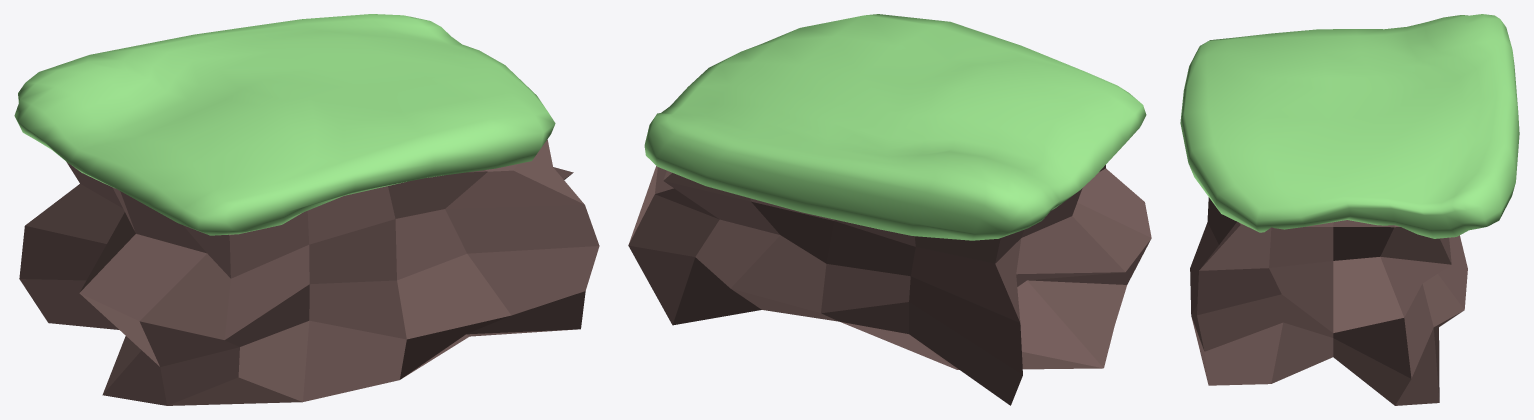
File: Cave Island - Short.fbx
The picture shows the model from 3 angles, left to right: view 1: azimuth 30°, elevation 25°; view 2: azimuth 150°, elevation 25°; view 3: azimuth 270°, elevation 25°; orthographic projection. The views are drawn at different scales.
Parts seen in each view (by area): view 1: Platform Small Flat rock, Platform Small Flat grass; view 2: Platform Small Flat grass, Platform Small Flat rock; view 3: Platform Small Flat grass, Platform Small Flat rock.
Part boxes in pixels (box(x1,y1,x2,y2)): Platform Small Flat rock: box(19, 139, 599, 405); Platform Small Flat grass: box(14, 14, 555, 235); Platform Small Flat grass: box(644, 14, 1146, 240); Platform Small Flat rock: box(628, 165, 1151, 405); Platform Small Flat grass: box(1180, 14, 1519, 238); Platform Small Flat rock: box(1190, 197, 1467, 405).
Size of the model in its own units: 1752 by 885 by 1173.
